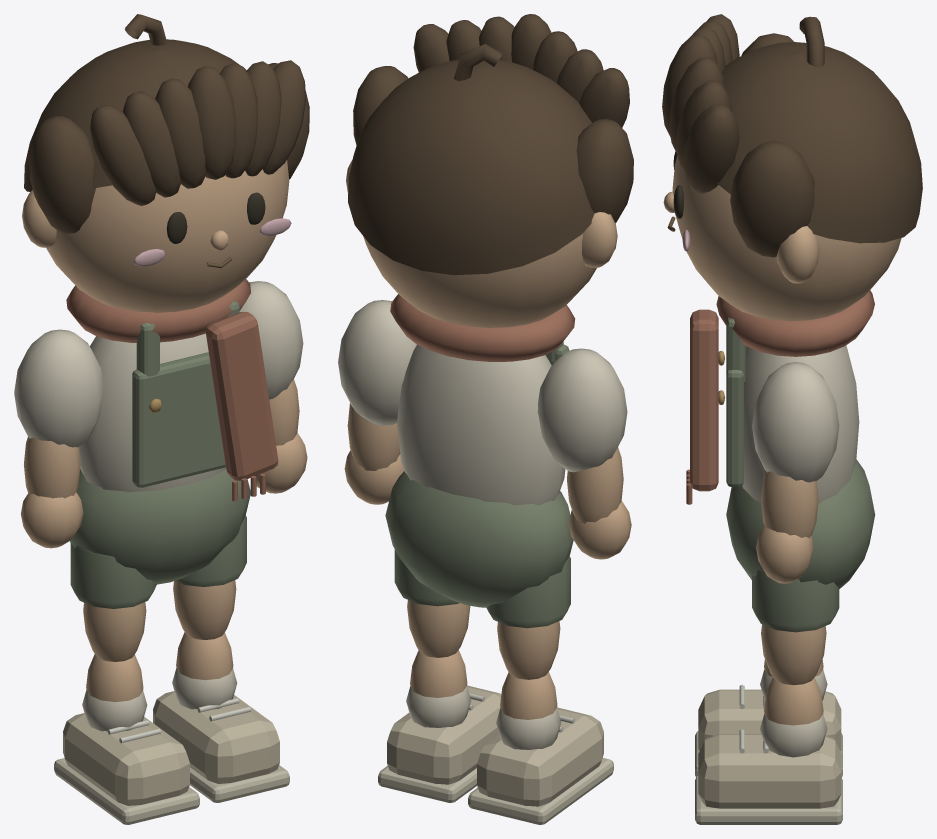
Rendered from visitor-scarf.glb.
The picture shows the model from 3 angles, left to right: view 1: azimuth 30°, elevation 25°; view 2: azimuth 150°, elevation 25°; view 3: azimuth 270°, elevation 25°; orthographic projection.
Parts seen in each view (by area): view 1: HeadPivot__RT_ExportPalette_0.720_0.000, BodyPivot__RT_ExportPalette_0.720_0.000, Knee_L__RT_ExportPalette_0.720_0.000, Outfit_Scarf__RT_ExportPalette_0.720_0.000_scarf, Knee_R__RT_ExportPalette_0.720_0.000, Sleeve_L, Leg_L__RT_ExportPalette_0.720_0.000, Arm_L__RT_ExportPalette_0.720_0.000, Leg_R__RT_ExportPalette_0.720_0.000, Sleeve_R, Arm_R__RT_ExportPalette_0.720_0.000, Face_Eyes__RT_ExportPalette_0.720_0.000; view 2: HeadPivot__RT_ExportPalette_0.720_0.000, BodyPivot__RT_ExportPalette_0.720_0.000, Knee_L__RT_ExportPalette_0.720_0.000, Knee_R__RT_ExportPalette_0.720_0.000, Sleeve_L, Sleeve_R, Outfit_Scarf__RT_ExportPalette_0.720_0.000_scarf, Leg_L__RT_ExportPalette_0.720_0.000, Arm_L__RT_ExportPalette_0.720_0.000, Arm_R__RT_ExportPalette_0.720_0.000, Leg_R__RT_ExportPalette_0.720_0.000; view 3: HeadPivot__RT_ExportPalette_0.720_0.000, BodyPivot__RT_ExportPalette_0.720_0.000, Knee_R__RT_ExportPalette_0.720_0.000, Outfit_Scarf__RT_ExportPalette_0.720_0.000_scarf, Sleeve_R, Leg_R__RT_ExportPalette_0.720_0.000, Arm_R__RT_ExportPalette_0.720_0.000, Knee_L__RT_ExportPalette_0.720_0.000.
Part boxes in pixels (x1,y1,x2,y2): HeadPivot__RT_ExportPalette_0.720_0.000: (22,14,309,312); BodyPivot__RT_ExportPalette_0.720_0.000: (69,301,250,584); Knee_L__RT_ExportPalette_0.720_0.000: (54,654,199,824); Outfit_Scarf__RT_ExportPalette_0.720_0.000_scarf: (66,279,278,501); Knee_R__RT_ExportPalette_0.720_0.000: (153,632,289,802); Sleeve_L: (14,329,103,447); Leg_L__RT_ExportPalette_0.720_0.000: (70,542,156,661); Arm_L__RT_ExportPalette_0.720_0.000: (21,436,83,548); Leg_R__RT_ExportPalette_0.720_0.000: (173,515,246,639); Sleeve_R: (239,281,303,399); Arm_R__RT_ExportPalette_0.720_0.000: (255,379,307,493); Face_Eyes__RT_ExportPalette_0.720_0.000: (166,192,265,243); HeadPivot__RT_ExportPalette_0.720_0.000: (346,14,633,327); BodyPivot__RT_ExportPalette_0.720_0.000: (385,341,573,607); Knee_L__RT_ExportPalette_0.720_0.000: (468,672,613,824); Knee_R__RT_ExportPalette_0.720_0.000: (378,650,501,802); Sleeve_L: (537,348,627,472); Sleeve_R: (338,300,416,425); Outfit_Scarf__RT_ExportPalette_0.720_0.000_scarf: (390,294,575,361); Leg_L__RT_ExportPalette_0.720_0.000: (486,556,570,679); Arm_L__RT_ExportPalette_0.720_0.000: (567,447,631,559); Arm_R__RT_ExportPalette_0.720_0.000: (344,403,404,504); Leg_R__RT_ExportPalette_0.720_0.000: (394,549,470,657); HeadPivot__RT_ExportPalette_0.720_0.000: (662,14,922,321); BodyPivot__RT_ExportPalette_0.720_0.000: (718,317,875,588); Knee_R__RT_ExportPalette_0.720_0.000: (695,677,842,824); Outfit_Scarf__RT_ExportPalette_0.720_0.000_scarf: (686,290,874,504); Sleeve_R: (752,362,839,482); Leg_R__RT_ExportPalette_0.720_0.000: (752,570,839,685); Arm_R__RT_ExportPalette_0.720_0.000: (756,470,818,583); Knee_L__RT_ExportPalette_0.720_0.000: (695,659,842,777).
Size of the model in its own units: 0.3499 by 0.9 by 0.2783.
